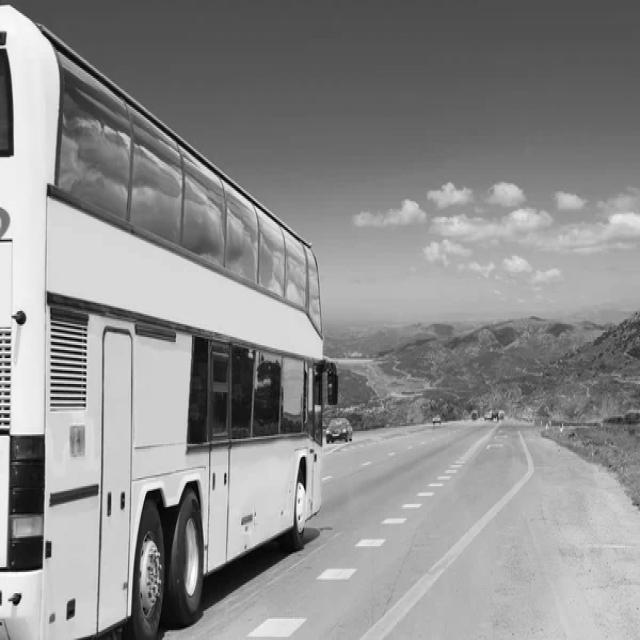Bus: (0, 6, 338, 640)
